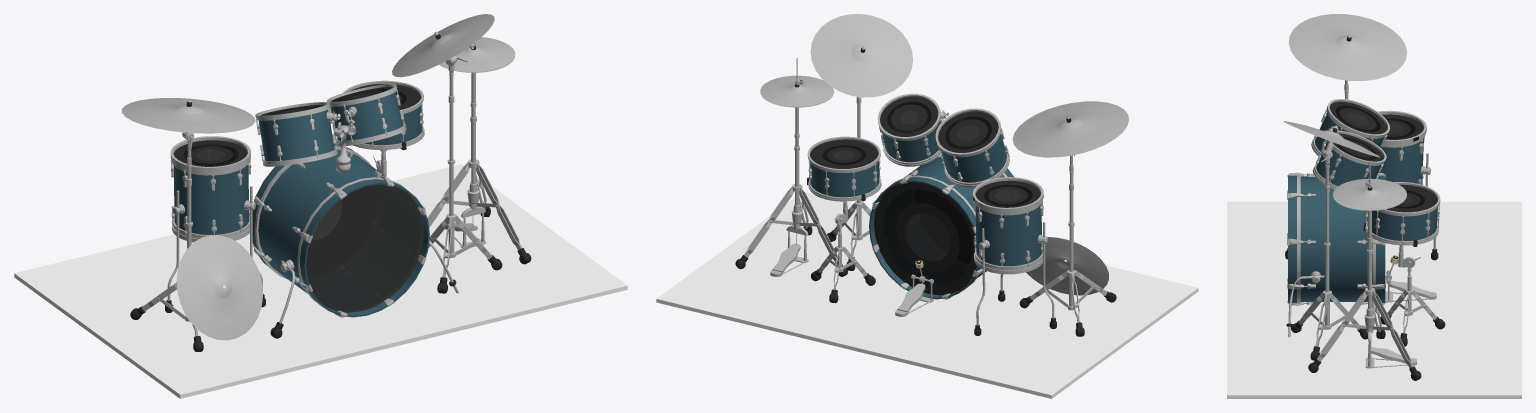
Rendered from drums-acoustic.glb.
3 views of the same model, side by side, from view 1: azimuth 30°, elevation 25°; view 2: azimuth 150°, elevation 25°; view 3: azimuth 270°, elevation 25° (orthographic). The views are drawn at different scales.
Visible parts, largest first — view 1: part115, part22, part21, part6, part32, part1, part13, part3, part31, part108, part4, part12 (+11 smaller); view 2: part115, part3, part1, part23, part24, part32, part6, part21, part31, part4, part22, part13 (+13 smaller); view 3: part115, part21, part1, part4, part26, part32, part108, part107, part61, part16, part45, part25 (+18 smaller).
Boxes of the visible parts, x1,y1,x2,y2 form: part115: [14, 164, 627, 398]; part22: [306, 184, 423, 312]; part21: [252, 145, 429, 317]; part6: [176, 235, 262, 340]; part32: [173, 164, 249, 234]; part1: [121, 98, 255, 133]; part13: [258, 109, 334, 161]; part3: [392, 14, 494, 77]; part31: [170, 136, 251, 242]; part108: [330, 92, 402, 140]; part4: [440, 37, 515, 71]; part12: [255, 102, 337, 166]; part115: [656, 192, 1198, 398]; part3: [810, 14, 913, 97]; part1: [1012, 101, 1128, 157]; part23: [874, 182, 976, 295]; part24: [883, 189, 972, 284]; part32: [975, 204, 1042, 266]; part6: [1026, 237, 1108, 295]; part21: [869, 155, 1014, 299]; part31: [972, 177, 1043, 274]; part4: [760, 75, 833, 106]; part22: [905, 213, 950, 261]; part13: [940, 134, 1006, 182]; part115: [1227, 201, 1521, 398]; part21: [1288, 175, 1385, 303]; part1: [1288, 14, 1406, 80]; part4: [1333, 178, 1406, 209]; part26: [1367, 207, 1437, 240]; part32: [1378, 138, 1423, 184]; part108: [1316, 142, 1381, 186]; part107: [1312, 130, 1386, 189]; part61: [1323, 157, 1331, 329]; part16: [1329, 101, 1387, 134]; part45: [1287, 172, 1385, 305]; part25: [1365, 182, 1440, 245].
Size of the model in its own units: 24 by 13.21 by 15.43.
